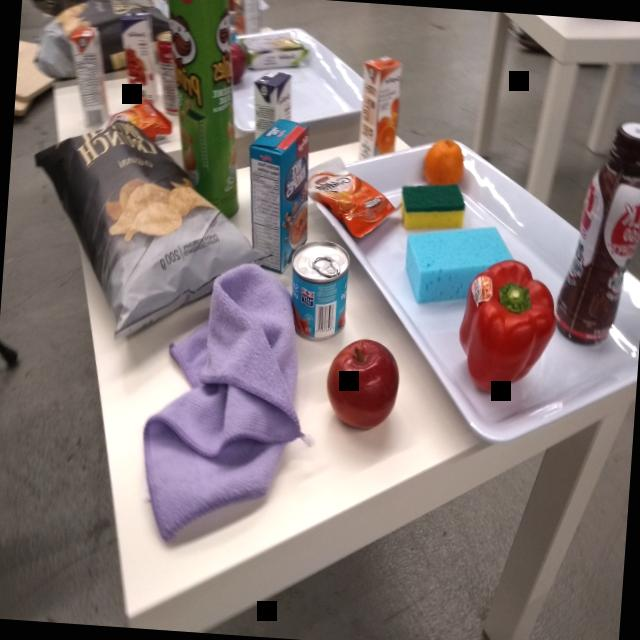apple: (320, 333, 405, 435)
cereal: (242, 114, 320, 277)
chocolate_drink: (549, 110, 640, 353)
cloth_opl: (133, 252, 321, 558)
crackers: (299, 163, 408, 247)
grape_juice: (107, 1, 166, 110)
orange: (420, 135, 468, 192)
orange_juice: (60, 20, 117, 129), (354, 49, 407, 163)
paprika: (451, 254, 563, 402)
potato_chips: (17, 110, 285, 352)
sausages: (285, 235, 354, 345)
scrubby: (397, 177, 469, 237)
